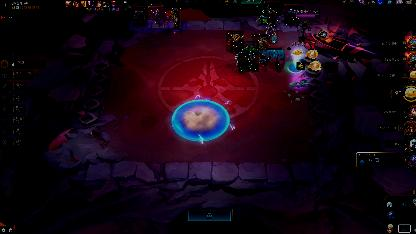1_leona: (284, 4, 300, 26)
1_rell: (165, 8, 181, 28)
1_seraphine: (252, 34, 268, 48)
1_sylas: (132, 6, 146, 26)
1_volibear: (226, 32, 244, 52)
1_zac: (263, 46, 285, 72)
1_zyra: (148, 4, 164, 28)
2_malphite: (239, 42, 259, 72)
2_nasus: (262, 1, 280, 15)
2_taliyah: (262, 14, 278, 42)
